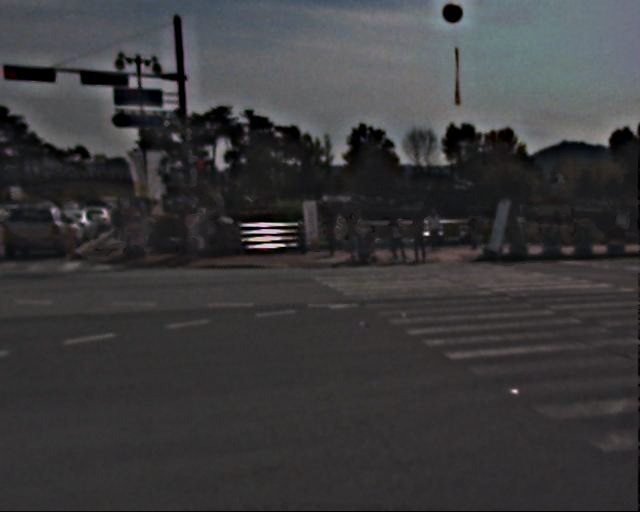person: (108, 206, 145, 243), (348, 209, 371, 266), (189, 209, 210, 261), (412, 215, 433, 267), (327, 209, 348, 259), (391, 216, 410, 263), (430, 208, 448, 252)
